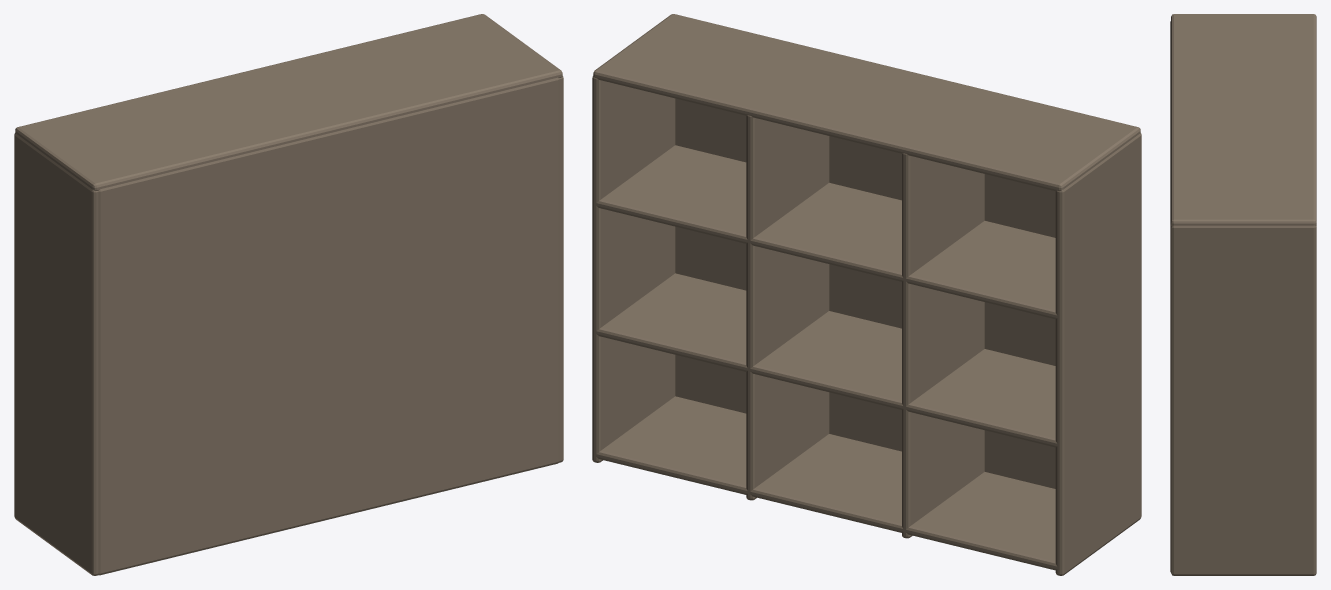
File: class_cubby.glb
3 renders of one model, left to right at view 1: azimuth 30°, elevation 25°; view 2: azimuth 150°, elevation 25°; view 3: azimuth 270°, elevation 25°, orthographic. The views are drawn at different scales.
Visible parts, largest first — view 1: KitWood; view 2: KitWood; view 3: KitWood.
Part boxes in pixels (bbox=[...]): KitWood: bbox=[14, 14, 563, 575]; KitWood: bbox=[592, 14, 1141, 575]; KitWood: bbox=[1170, 14, 1316, 575].
Bounding box in the file's own units: 1.42 × 1.13 × 0.4225.
